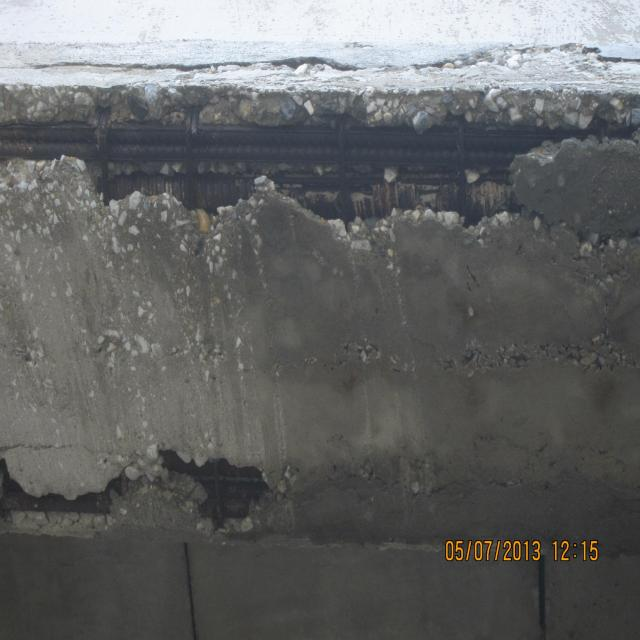Rebar: (0, 83, 640, 242), (0, 440, 297, 542)
horizontal crack: (304, 432, 568, 503), (30, 56, 362, 72)
